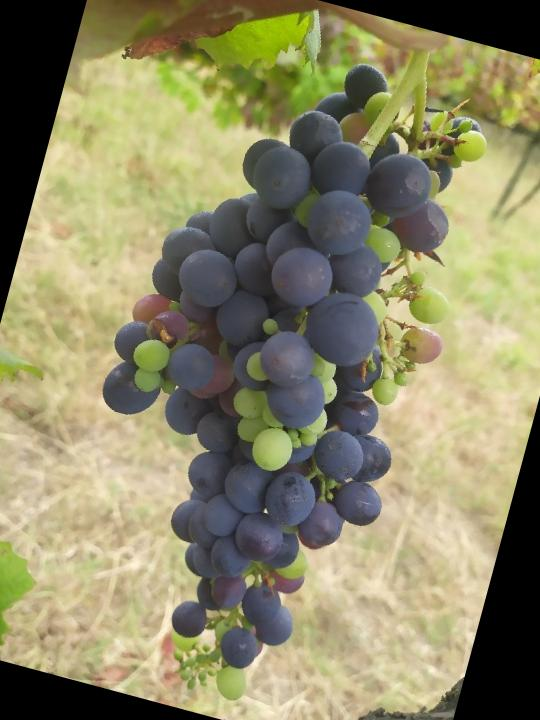grape: (28, 17, 515, 720)
